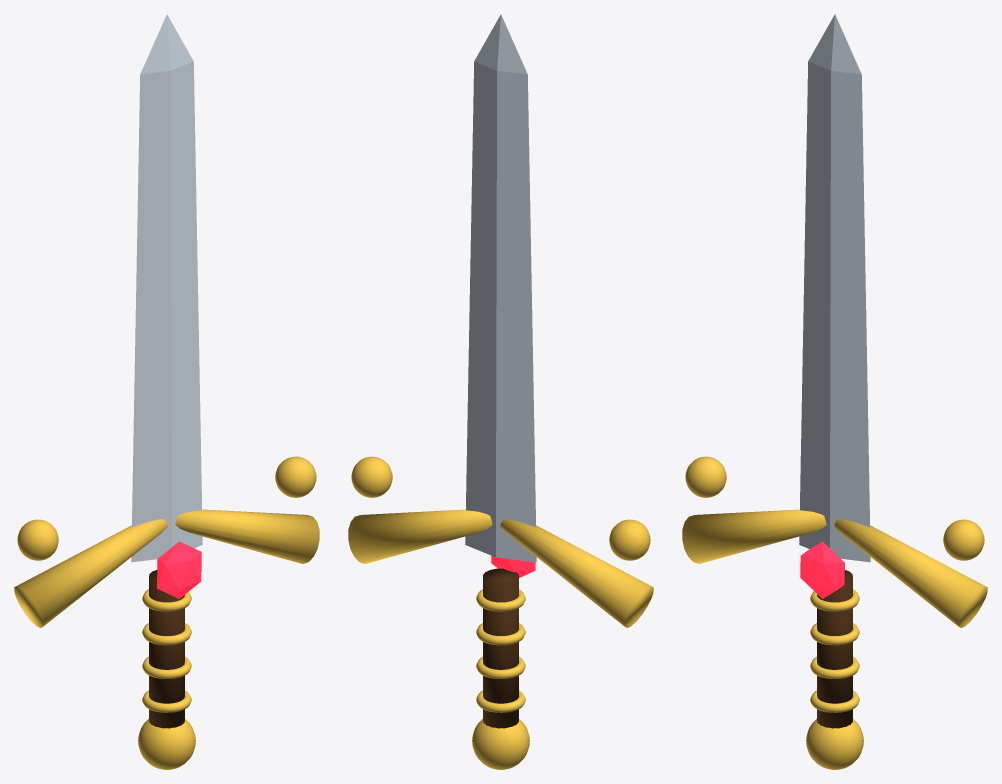
The model's file is sword-3.glb.
The picture shows the model from 3 angles, left to right: view 1: azimuth 30°, elevation 25°; view 2: azimuth 150°, elevation 25°; view 3: azimuth 330°, elevation 25°; orthographic projection.
Visible parts, largest first — view 1: Blade, Wrap0, Gem; view 2: Blade, Wrap0, Gem; view 3: Blade, Wrap0, Gem.
Part boxes in pixels (x1=…): Blade: x1=14, y1=14, x2=319, y2=769; Wrap0: x1=142, y1=589, x2=191, y2=712; Gem: x1=157, y1=541, x2=201, y2=598; Blade: x1=348, y1=14, x2=653, y2=769; Wrap0: x1=476, y1=589, x2=525, y2=712; Gem: x1=491, y1=555, x2=535, y2=577; Blade: x1=682, y1=14, x2=987, y2=769; Wrap0: x1=810, y1=589, x2=859, y2=712; Gem: x1=800, y1=541, x2=844, y2=598.
Size of the model in its own units: 0.41 by 1.01 by 0.0799.
4 materials, 4 textured.
